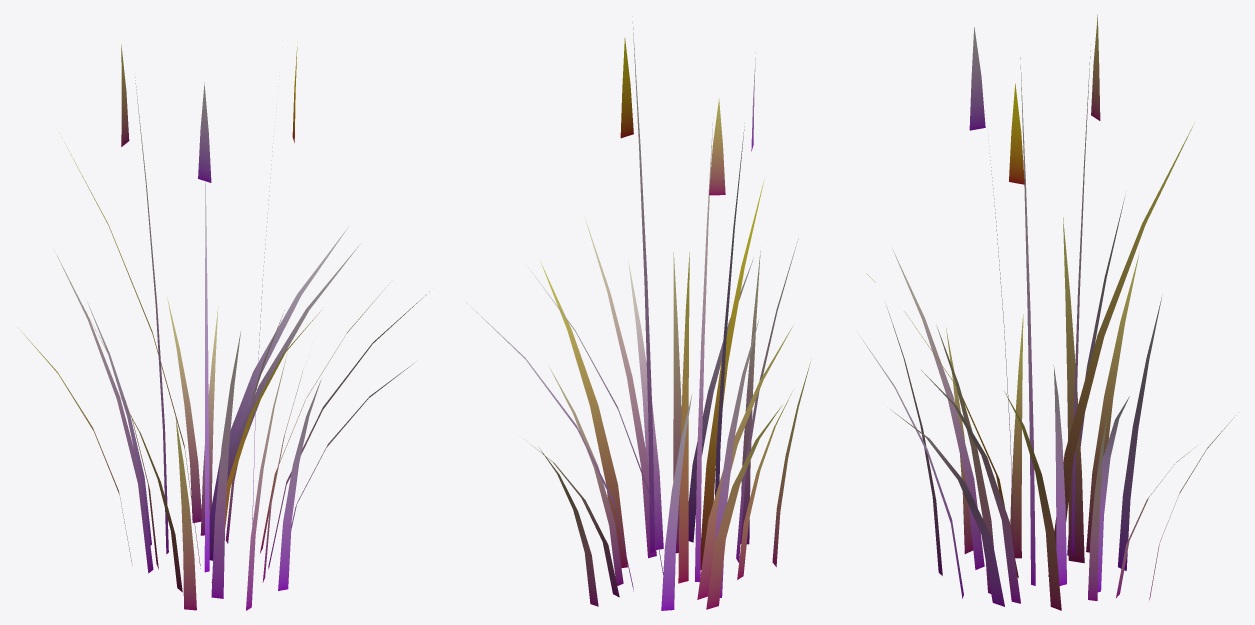
File: grass_clump_c.glb
3 views of the same model, side by side, from view 1: azimuth 30°, elevation 25°; view 2: azimuth 150°, elevation 25°; view 3: azimuth 270°, elevation 25° (orthographic). The views are drawn at different scales.
Visible parts, largest first — view 1: grass_clump_c; view 2: grass_clump_c; view 3: grass_clump_c.
Part boxes in pixels (bbox=[...]): grass_clump_c: bbox=[18, 42, 429, 610]; grass_clump_c: bbox=[465, 16, 810, 610]; grass_clump_c: bbox=[859, 14, 1238, 610].
Bounding box in the file's own units: 0.2719 × 0.4295 × 0.277.
